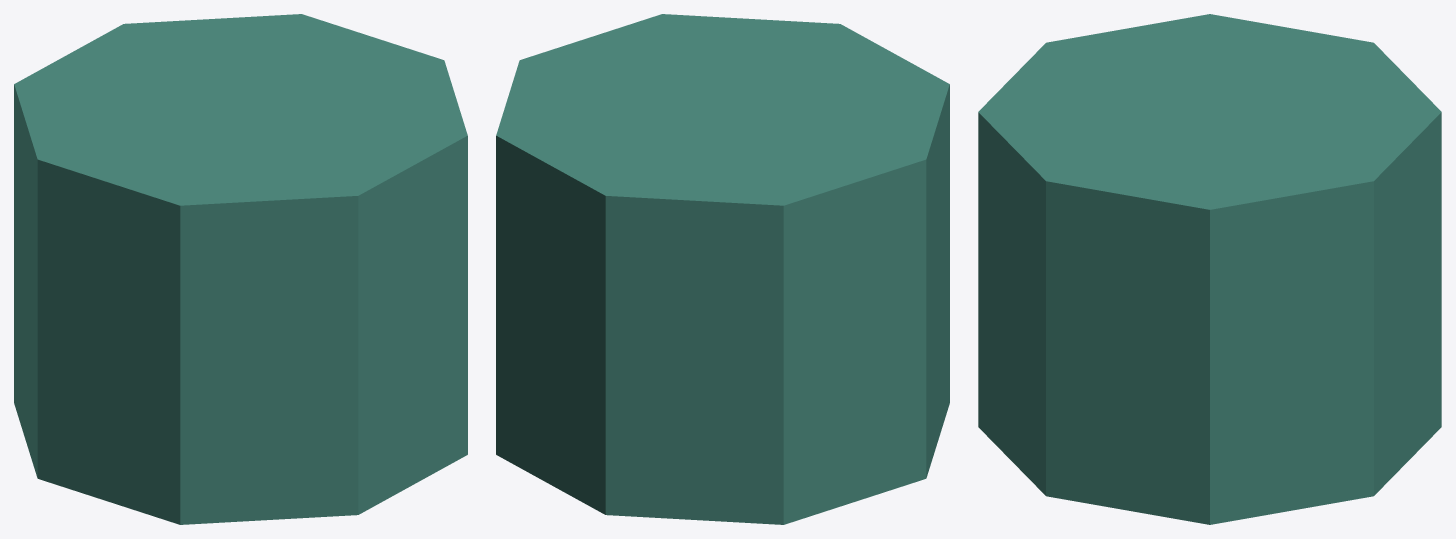
The model's file is bubble_shooter_asset.fbx.
3 renders of one model, left to right at view 1: azimuth 30°, elevation 25°; view 2: azimuth 150°, elevation 25°; view 3: azimuth 270°, elevation 25°, orthographic.
Visible parts, largest first — view 1: BubbleShooter; view 2: BubbleShooter; view 3: BubbleShooter.
Boxes of the visible parts, x1,y1,x2,y2 form: BubbleShooter: [14, 14, 467, 524]; BubbleShooter: [496, 14, 949, 524]; BubbleShooter: [978, 14, 1441, 524].
Size of the model in its own units: 400 by 300 by 400.
